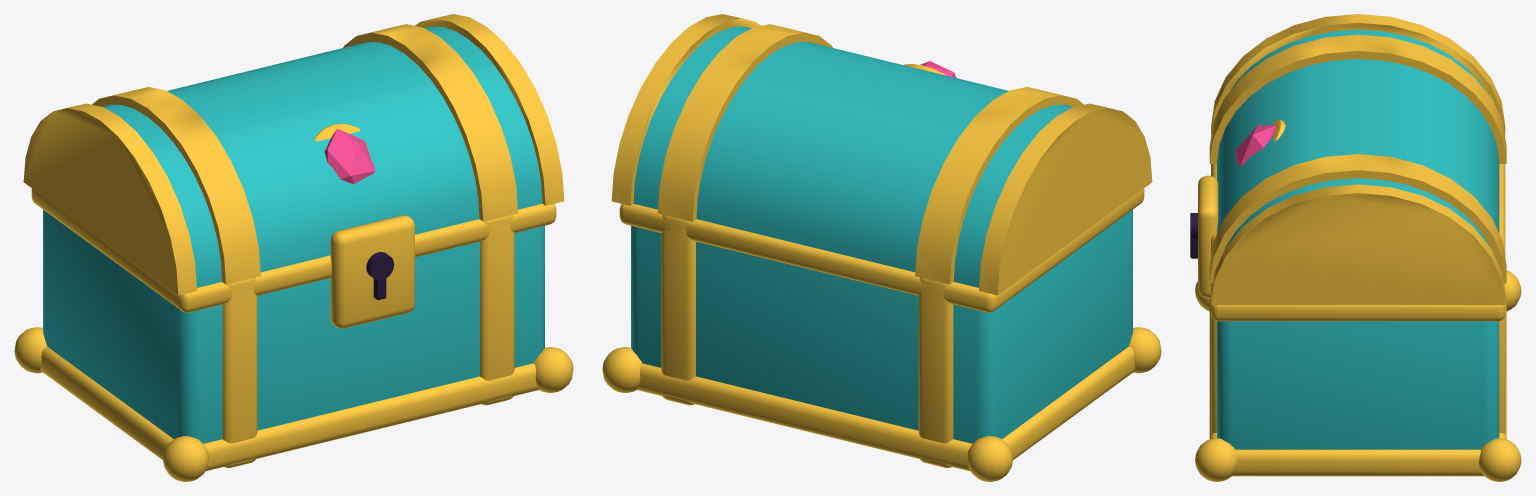
File: chest.glb
3 renders of one model, left to right at view 1: azimuth 30°, elevation 25°; view 2: azimuth 150°, elevation 25°; view 3: azimuth 270°, elevation 25°, orthographic. The views are drawn at different scales.
Visible parts, largest first — view 1: ChestBase, Lid; view 2: Lid, ChestBase; view 3: Lid, ChestBase.
Boxes of the visible parts, x1=… form: ChestBase: x1=14, y1=188, x2=573, y2=481; Lid: x1=23, y1=14, x2=564, y2=295; Lid: x1=611, y1=14, x2=1152, y2=295; ChestBase: x1=602, y1=188, x2=1161, y2=481; Lid: x1=1209, y1=14, x2=1506, y2=304; ChestBase: x1=1190, y1=164, x2=1521, y2=481.
Size of the model in its own units: 1.51 by 1.1 by 1.12.
